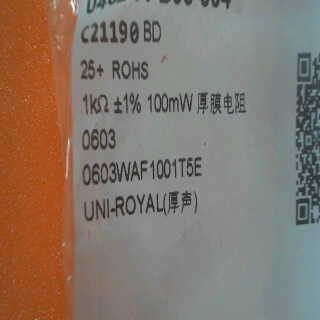1kR: (79, 88, 113, 122)
